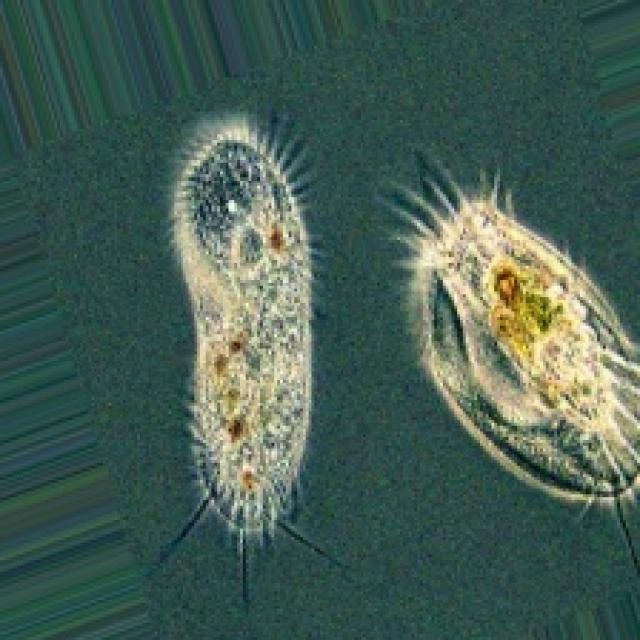Amoeba: (126, 112, 363, 618), (384, 139, 640, 595)
